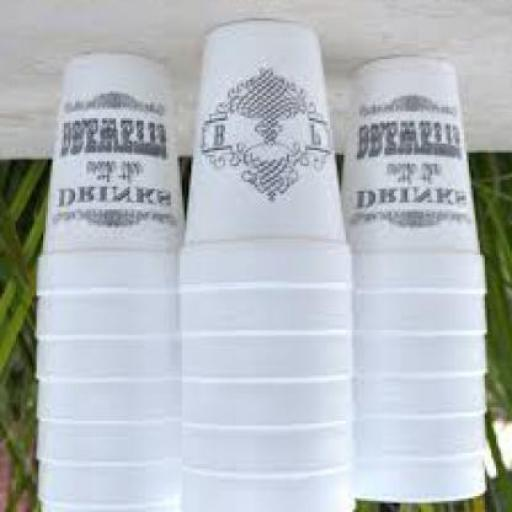paper: (178, 20, 354, 510), (30, 56, 184, 510), (342, 60, 484, 505), (180, 18, 353, 293), (34, 54, 175, 300), (342, 59, 484, 295)
